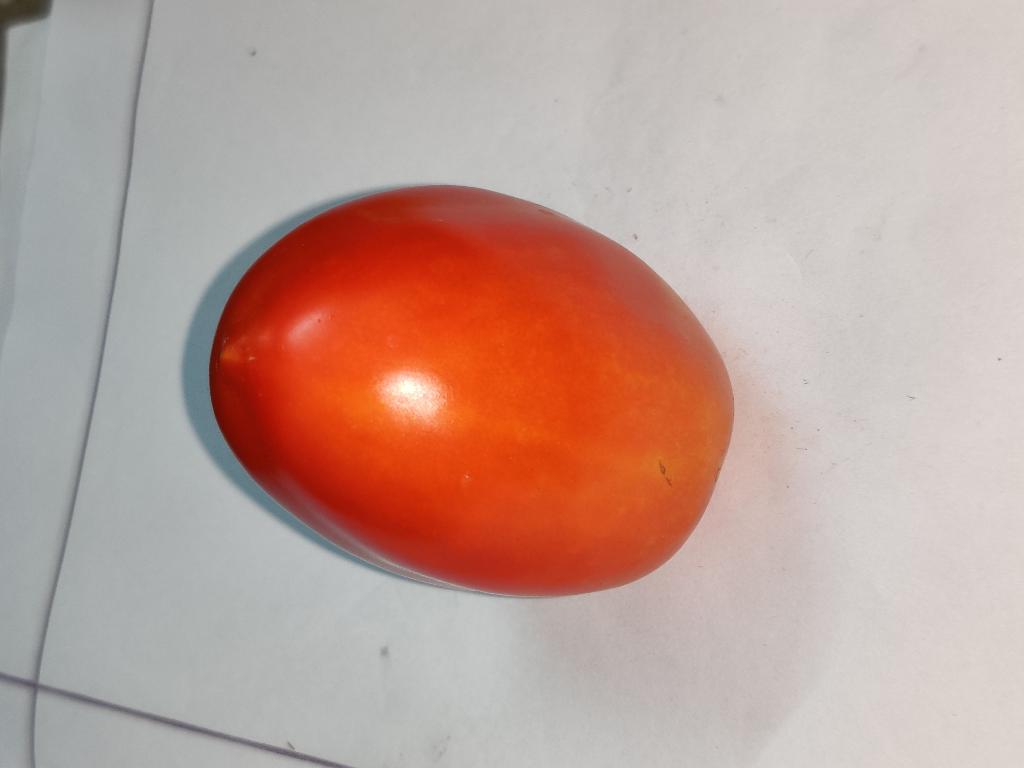tomato: (210, 186, 733, 595)
